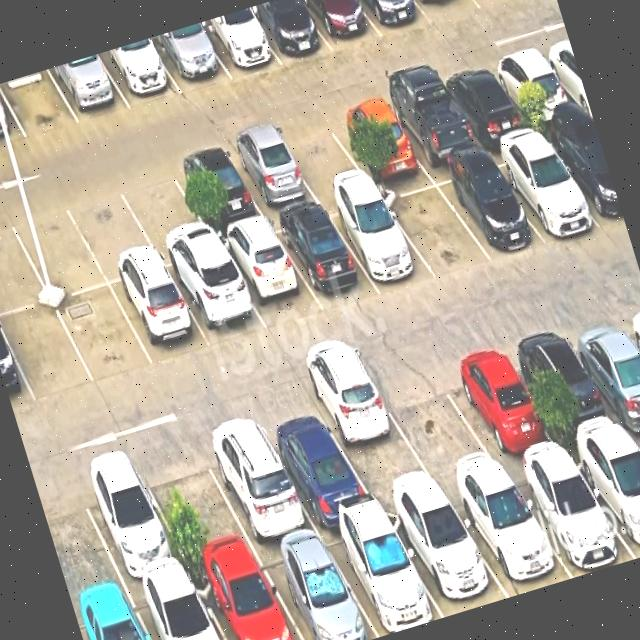empty: (374, 360, 505, 493), (132, 437, 255, 569), (316, 382, 442, 508), (35, 470, 124, 605), (377, 174, 490, 278), (114, 162, 217, 267), (5, 196, 108, 300), (64, 181, 163, 283), (54, 284, 154, 384), (0, 302, 94, 403), (272, 114, 368, 197), (0, 69, 79, 137), (0, 212, 49, 314)
occupied: (195, 413, 317, 549), (438, 341, 564, 472), (70, 453, 189, 587), (256, 400, 377, 529), (447, 474, 572, 597), (508, 456, 635, 577), (509, 321, 628, 450), (320, 513, 443, 637), (384, 496, 508, 617), (254, 534, 378, 640), (484, 133, 601, 240), (215, 221, 323, 331), (269, 204, 378, 311), (429, 156, 542, 259), (323, 190, 435, 291), (560, 307, 640, 431), (110, 268, 211, 366), (190, 553, 302, 640), (538, 117, 625, 227), (166, 253, 267, 347), (569, 433, 640, 558), (379, 79, 481, 166), (167, 145, 265, 234), (223, 130, 318, 215), (327, 97, 424, 178), (437, 61, 530, 142), (486, 46, 579, 125), (128, 571, 224, 640), (97, 38, 181, 108), (196, 9, 281, 78), (48, 54, 130, 123), (245, 0, 332, 64), (150, 24, 229, 92), (301, 0, 381, 51), (73, 590, 150, 640), (0, 326, 35, 410), (358, 0, 431, 37), (414, 0, 480, 25), (0, 89, 26, 144)
